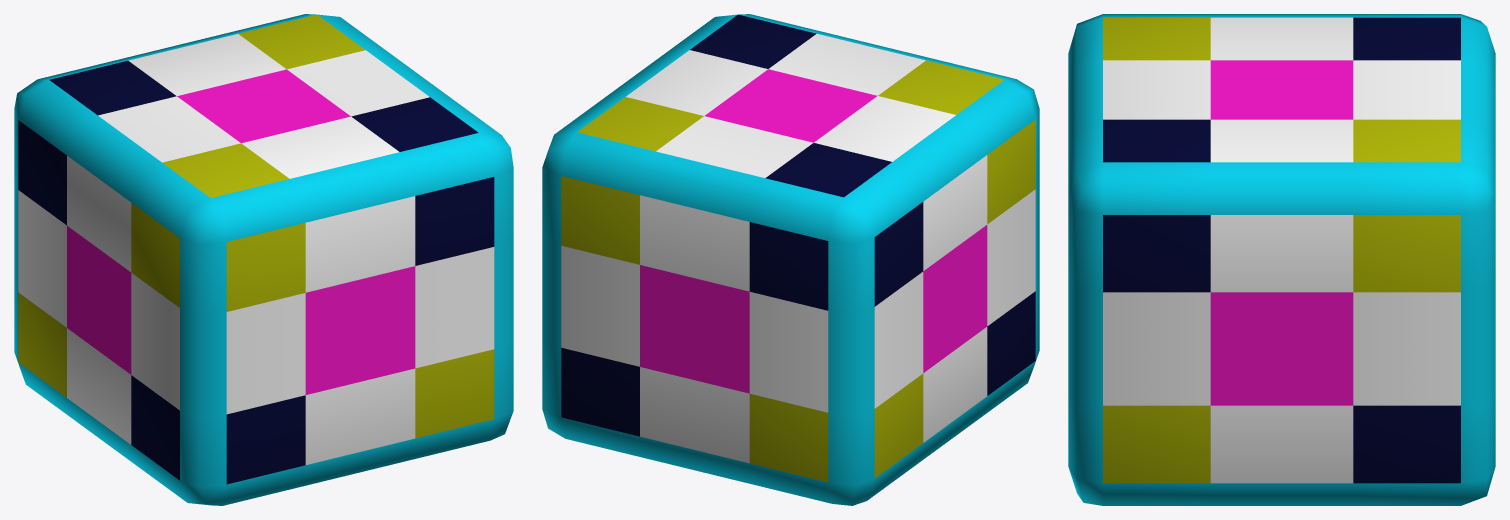
Rendered from BALL.FBX.
The picture shows the model from 3 angles, left to right: view 1: azimuth 30°, elevation 25°; view 2: azimuth 150°, elevation 25°; view 3: azimuth 270°, elevation 25°; orthographic projection. The views are drawn at different scales.
Visible parts, largest first — view 1: Box001; view 2: Box001; view 3: Box001.
Boxes of the visible parts, x1,y1,x2,y2 form: Box001: (14,14,513,505); Box001: (542,14,1039,505); Box001: (1068,14,1495,505).
Bounding box in the file's own units: 19.16 × 17.06 × 19.43.
